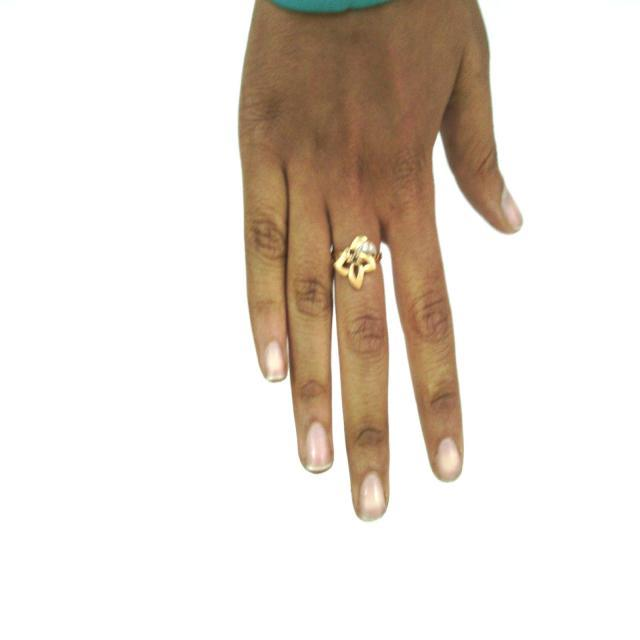Fingernail: (305, 422, 331, 472), (359, 472, 385, 521), (435, 438, 461, 482), (501, 188, 522, 230), (265, 341, 285, 381)
